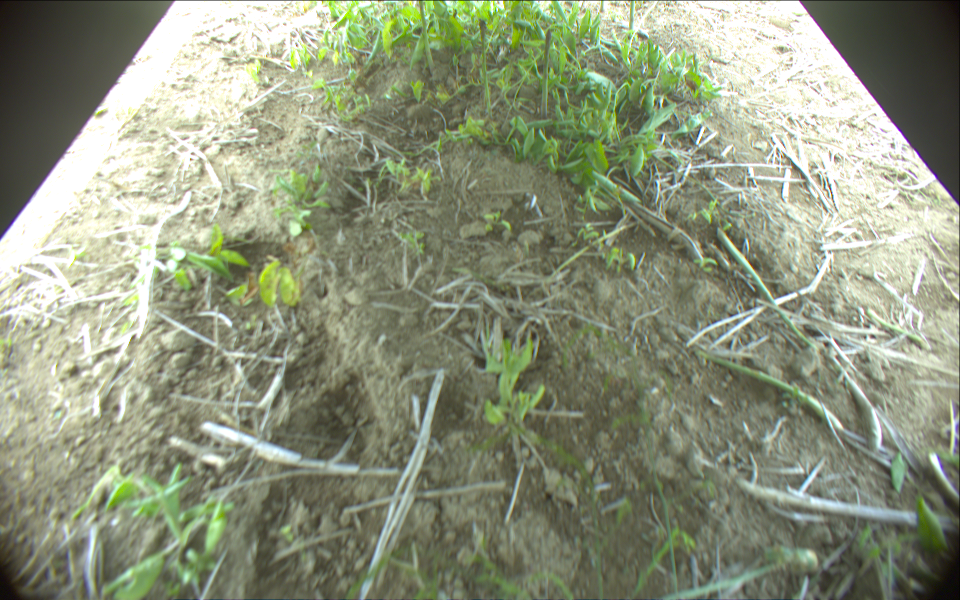aspa: (715, 226, 812, 348), (699, 354, 842, 435), (477, 19, 495, 111), (540, 26, 557, 116), (417, 1, 433, 61), (629, 1, 637, 30), (598, 1, 605, 14)
